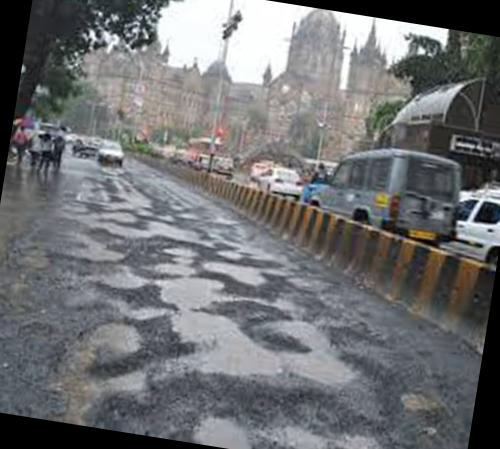pothole: (40, 302, 162, 432), (157, 302, 300, 396), (262, 308, 375, 401), (142, 260, 242, 320), (90, 211, 216, 254), (196, 251, 292, 301), (178, 403, 279, 449), (54, 226, 133, 272), (92, 179, 171, 224), (80, 256, 158, 299), (392, 372, 446, 426), (282, 266, 344, 307), (212, 241, 248, 268)
